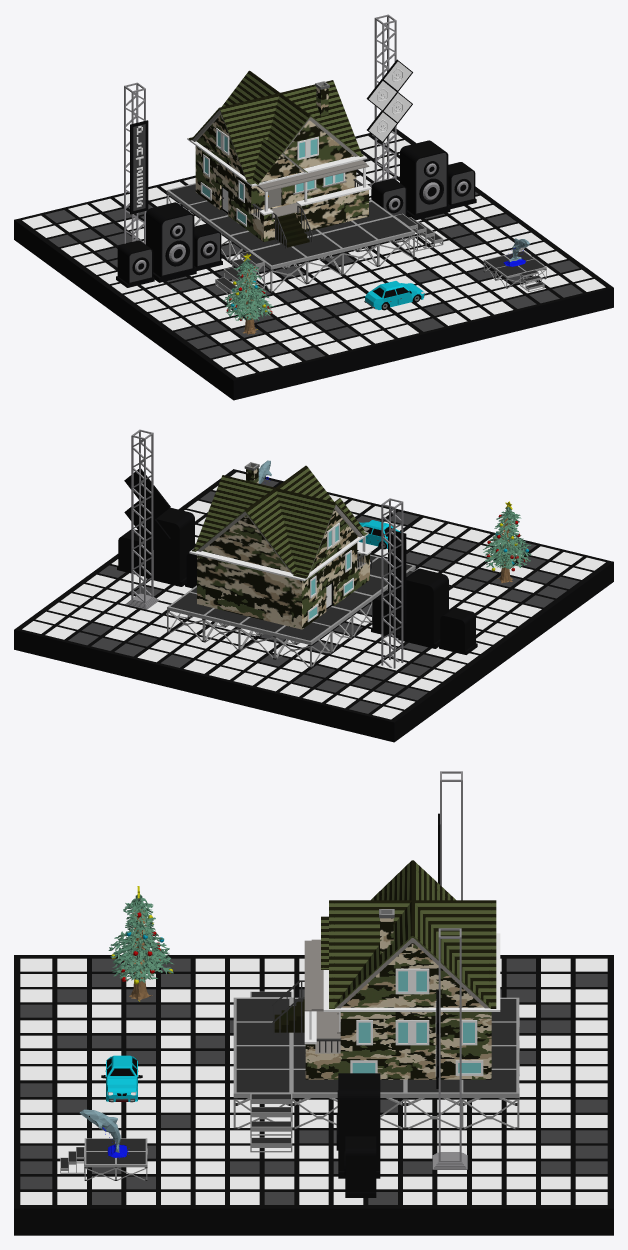
3 views of the same model, one above another, from view 1: azimuth 30°, elevation 25°; view 2: azimuth 150°, elevation 25°; view 3: azimuth 270°, elevation 25° (orthographic). The views are drawn at different scales.
Parts seen in each view (by area): view 1: Cube.008, Cube.002, OBJRANDOM_CHRISTMAS_TREE, VEHICLES_CAR; view 2: Cube.008, Cube.002, OBJRANDOM_CHRISTMAS_TREE, VEHICLES_CAR; view 3: Cube.008, Cube.002, OBJRANDOM_CHRISTMAS_TREE, VEHICLES_CAR, ANIMAL_DELFIN.
Boxes of the visible parts, left/top/right/bottom form: Cube.008: left=14, top=14, right=613, bottom=400; Cube.002: left=187, top=70, right=371, bottom=248; OBJRANDOM_CHRISTMAS_TREE: left=222, top=253, right=273, bottom=334; VEHICLES_CAR: left=364, top=281, right=424, bottom=310; Cube.008: left=14, top=429, right=613, bottom=742; Cube.002: left=189, top=462, right=372, bottom=629; OBJRANDOM_CHRISTMAS_TREE: left=483, top=501, right=531, bottom=583; VEHICLES_CAR: left=359, top=520, right=400, bottom=549; Cube.008: left=14, top=771, right=613, bottom=1235; Cube.002: left=272, top=860, right=500, bottom=1079; OBJRANDOM_CHRISTMAS_TREE: left=108, top=886, right=173, bottom=1001; VEHICLES_CAR: left=101, top=1055, right=142, bottom=1102; ANIMAL_DELFIN: left=79, top=1109, right=129, bottom=1158.
Size of the model in its own units: 4000 by 1950 by 4000.
43 materials, 3 textured.
